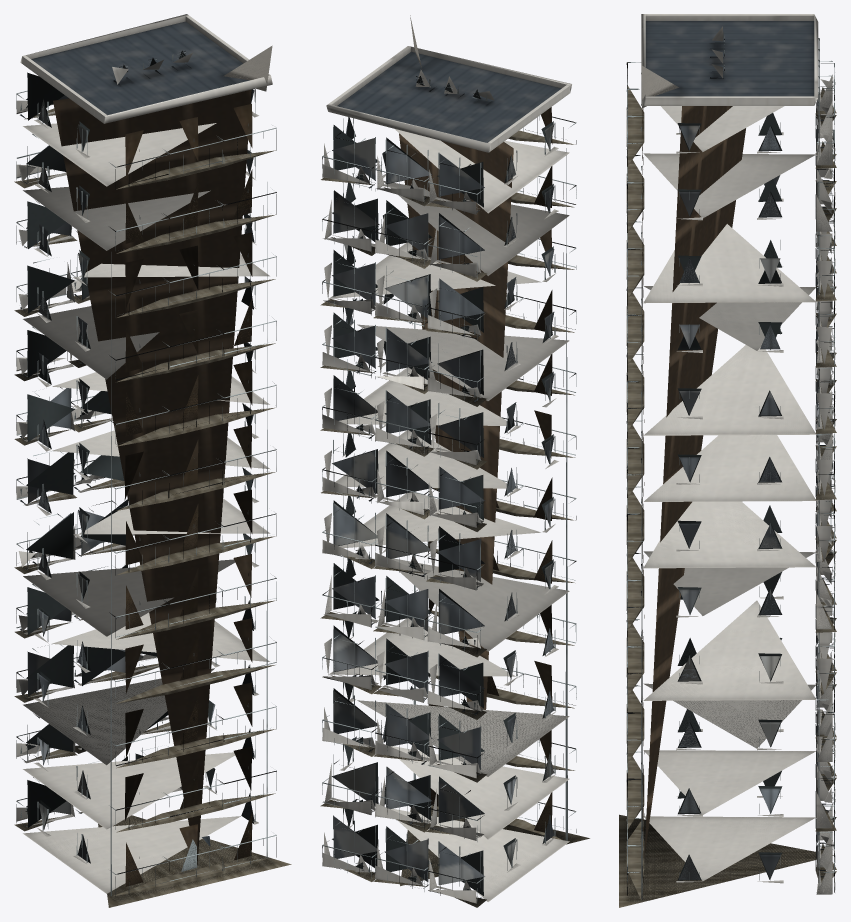
Rendered from residential_018.lod2.obj.
The picture shows the model from 3 angles, left to right: view 1: azimuth 30°, elevation 25°; view 2: azimuth 150°, elevation 25°; view 3: azimuth 270°, elevation 25°; orthographic projection. The views are drawn at different scales.
Parts seen in each view (by area): view 1: residential_018; view 2: residential_018; view 3: residential_018.
Part boxes in pixels (x1,y1,x2,y2): residential_018: (14,14,291,907); residential_018: (320,15,589,907); residential_018: (619,14,836,907).
Bounding box in the file's own units: 8.8 × 37.36 × 8.8.
1 material, 1 textured.
